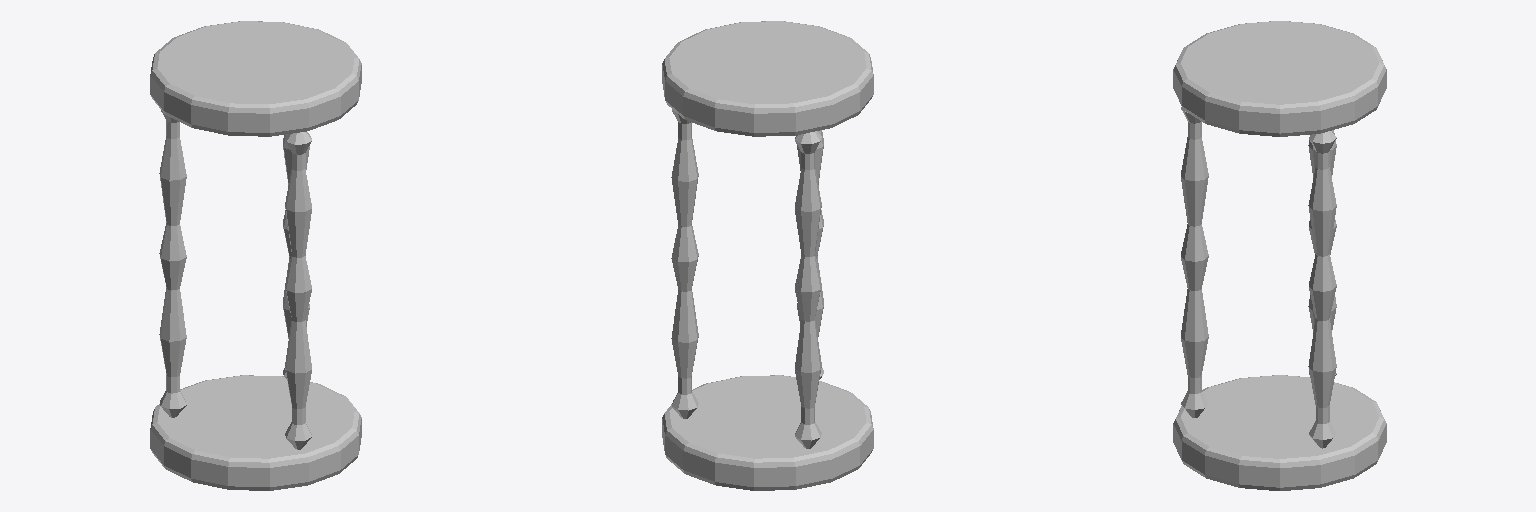
The model's file is HGlassShadow.obj.
The picture shows the model from 3 angles: view 1: azimuth 30°, elevation 25°; view 2: azimuth 150°, elevation 25°; view 3: azimuth 270°, elevation 25°; orthographic projection.
Parts seen in each view (by area): view 1: default; view 2: default; view 3: default.
Boxes of the visible parts, box(x1,y1,x2,y2) form: default: box(150, 21, 361, 490); default: box(662, 21, 873, 490); default: box(1173, 21, 1386, 490).
Bounding box in the file's own units: 6 × 12 × 6.